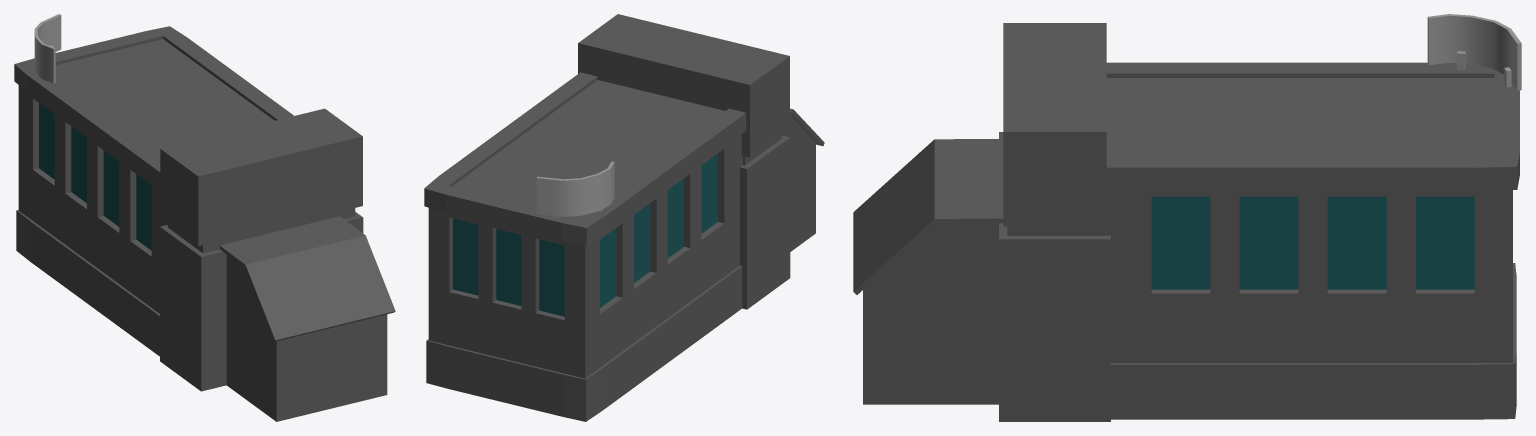
File: building 5_jh_031725.fbx
3 views of the same model, side by side, from view 1: azimuth 30°, elevation 25°; view 2: azimuth 150°, elevation 25°; view 3: azimuth 270°, elevation 25° (orthographic). The views are drawn at different scales.
Visible parts, largest first — view 1: Cube.057, Cube.030, Cube.098, Cube.099; view 2: Cube.030, Cube.057, Cube.098, Cube.099; view 3: Cube.030, Cube.057, Cube.098, Cube.099.
Part boxes in pixels (<box>): Cube.057: <box>160,108,395,421</box>; Cube.030: <box>14,26,293,356</box>; Cube.098: <box>39,103,151,250</box>; Cube.099: <box>34,14,61,83</box>; Cube.030: <box>424,72,746,421</box>; Cube.057: <box>578,14,824,309</box>; Cube.098: <box>453,153,717,316</box>; Cube.099: <box>536,161,614,217</box>; Cube.030: <box>1102,62,1519,419</box>; Cube.057: <box>853,23,1110,421</box>; Cube.098: <box>1151,196,1474,289</box>; Cube.099: <box>1427,14,1521,90</box>.
Bounding box in the file's own units: 3000 × 3907 × 7765.
